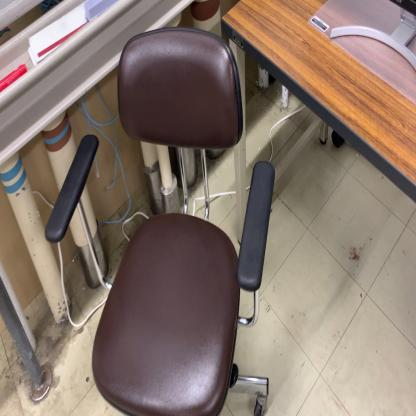chair: (43, 26, 275, 416)
